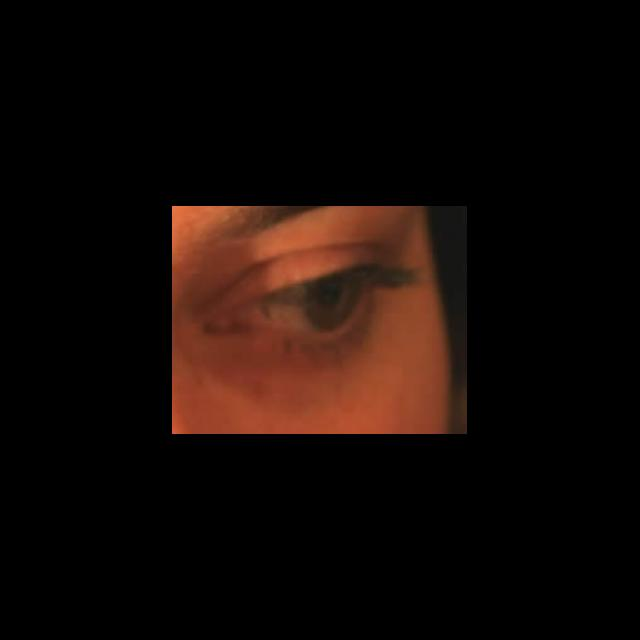eye: (241, 269, 366, 341)
iris: (302, 277, 359, 330)
